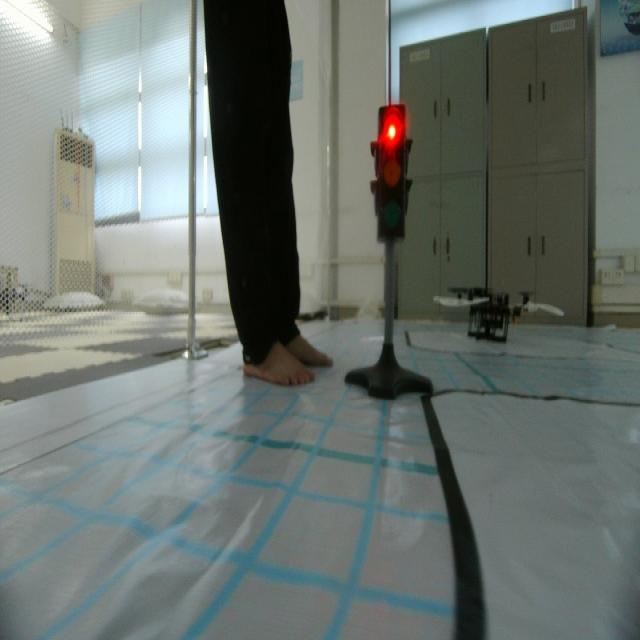red: (366, 101, 415, 251)
